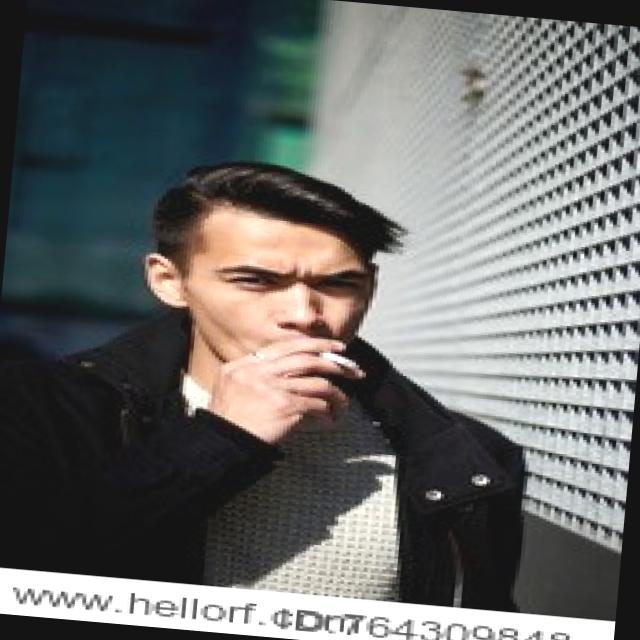smoke: (312, 346, 364, 373)
